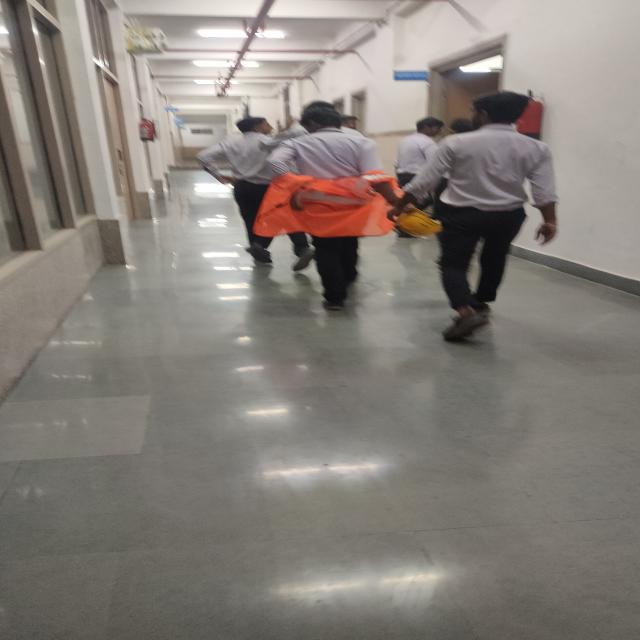unsafe: (391, 94, 558, 342), (266, 110, 384, 310), (200, 117, 285, 263), (390, 118, 444, 236)
